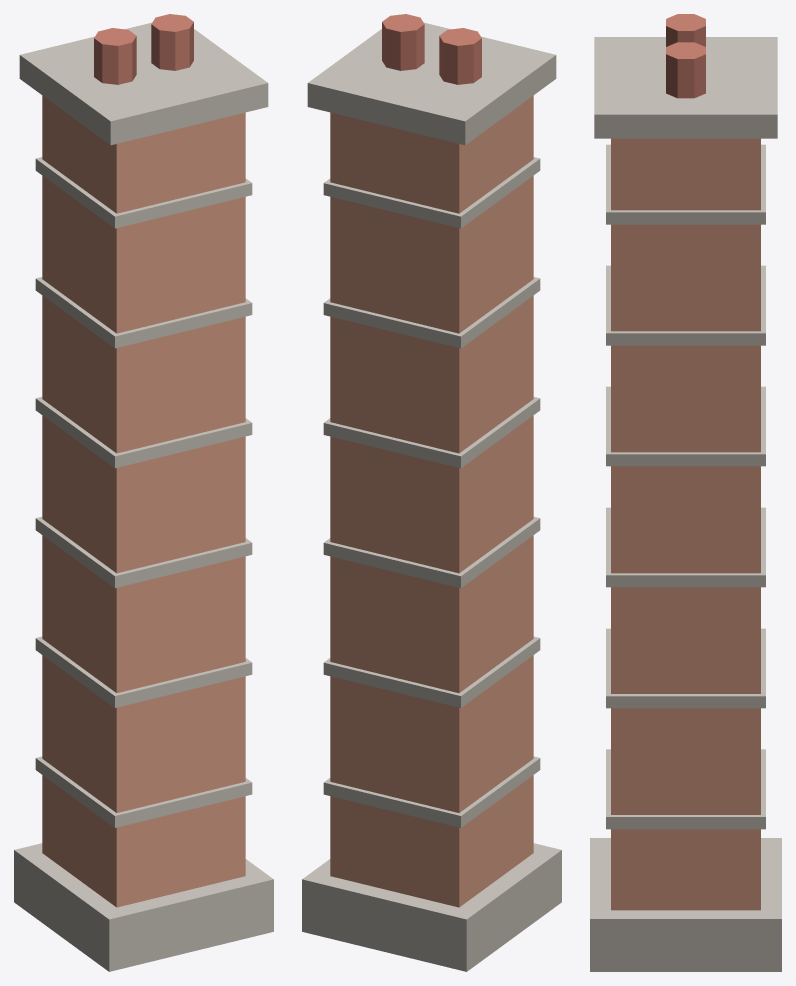
The model's file is chimney_5_5.glb.
The picture shows the model from 3 angles, left to right: view 1: azimuth 30°, elevation 25°; view 2: azimuth 150°, elevation 25°; view 3: azimuth 270°, elevation 25°; orthographic projection.
Visible parts, largest first — view 1: Player; view 2: Player; view 3: Player.
Boxes of the visible parts, left/top/right/bottom form: Player: left=14, top=14, right=273, bottom=971; Player: left=302, top=14, right=561, bottom=971; Player: left=590, top=14, right=781, bottom=971.
Bounding box in the file's own units: 1.15 × 5.92 × 1.15.
